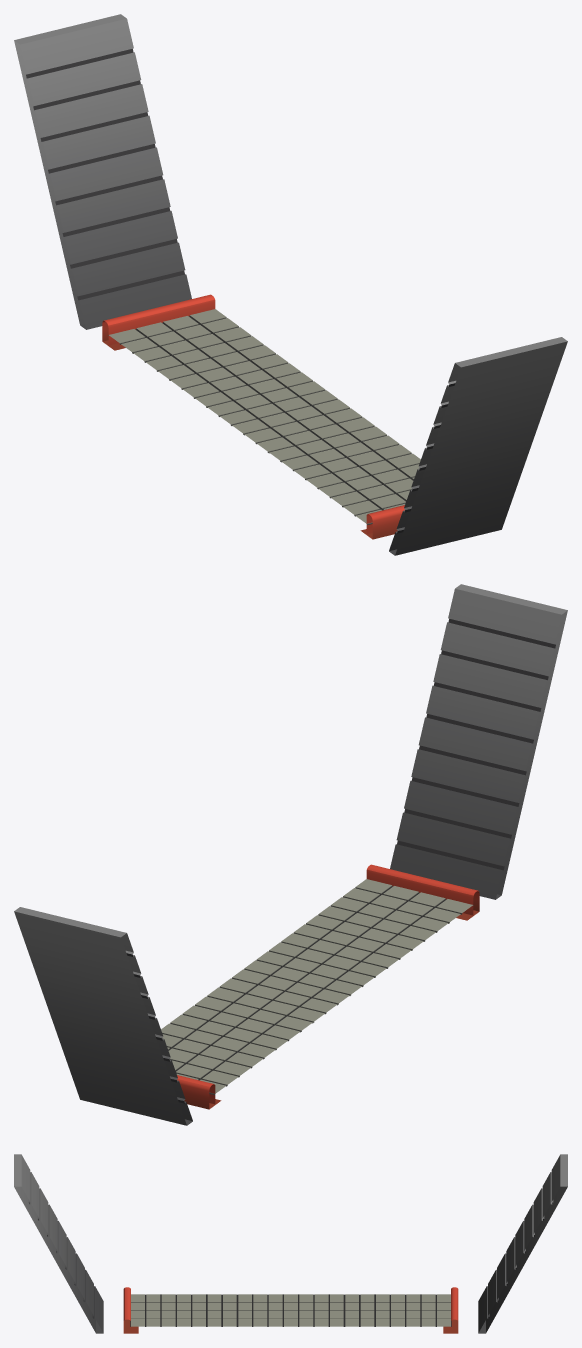
The model's file is mapendless.fbx.
3 renders of one model, top to bottom at view 1: azimuth 30°, elevation 25°; view 2: azimuth 150°, elevation 25°; view 3: azimuth 270°, elevation 25°, orthographic. The views are drawn at different scales.
Visible parts, largest first — view 1: Cube.001, Cube, Cube.002; view 2: Cube.001, Cube, Cube.002; view 3: Cube, Cube.001, Cube.002.
Part boxes in pixels (x1,y1,x2,y2): Cube.001: (14,14,567,555); Cube: (108,309,420,524); Cube.002: (102,294,404,539); Cube.001: (14,584,567,1125); Cube: (161,879,473,1094); Cube.002: (177,864,479,1109); Cube: (130,1294,451,1326); Cube.001: (14,1154,567,1333); Cube.002: (123,1287,458,1333).
Bounding box in the file's own units: 2000 × 4239 × 14487.
Materials: 1 (1 with a texture image).
